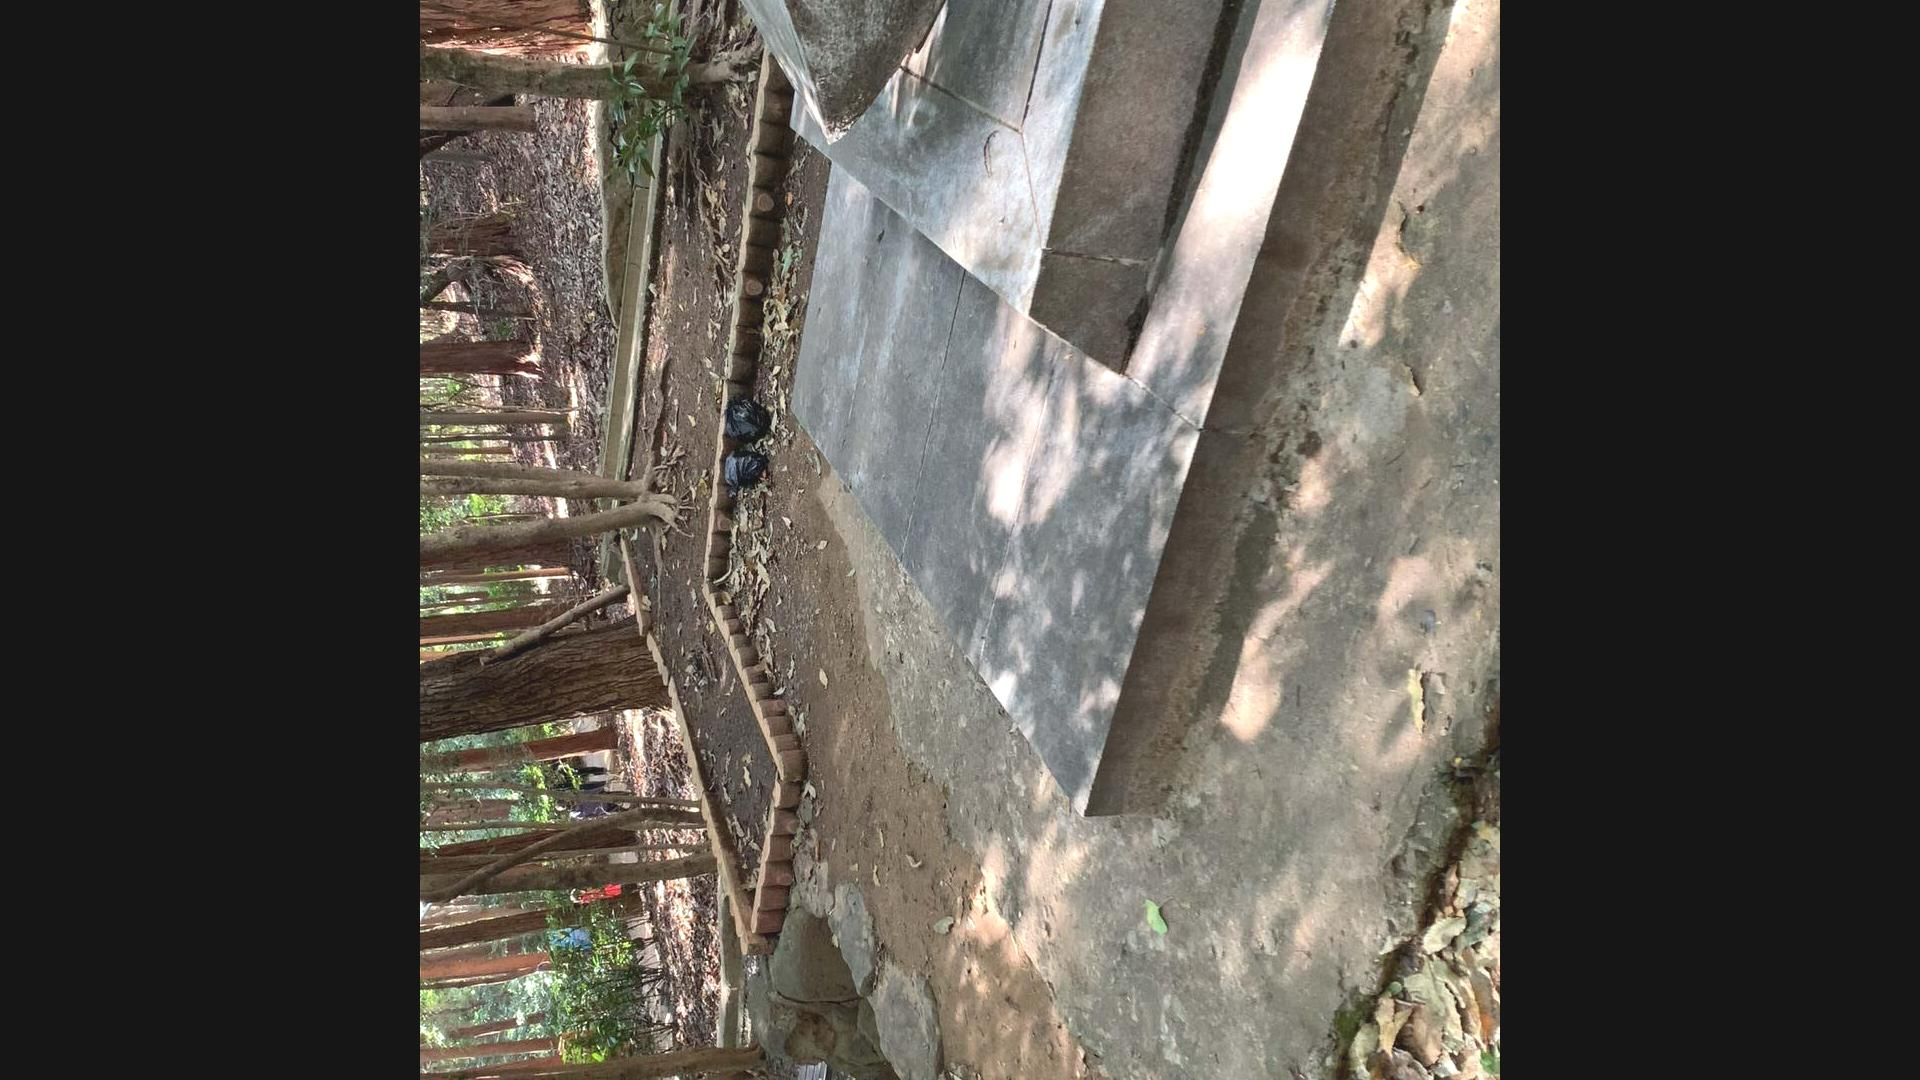black_bag: (719, 396, 771, 451), (717, 444, 771, 496)
